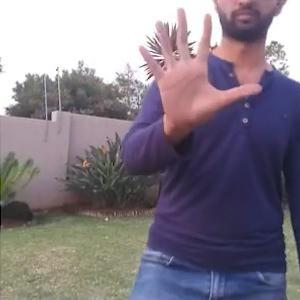follow_hand: (135, 4, 263, 126)
